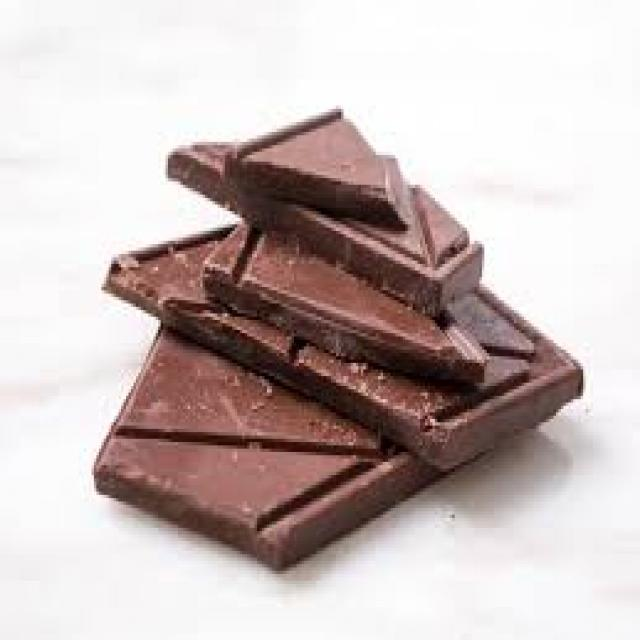chocolate: (82, 97, 586, 583)
